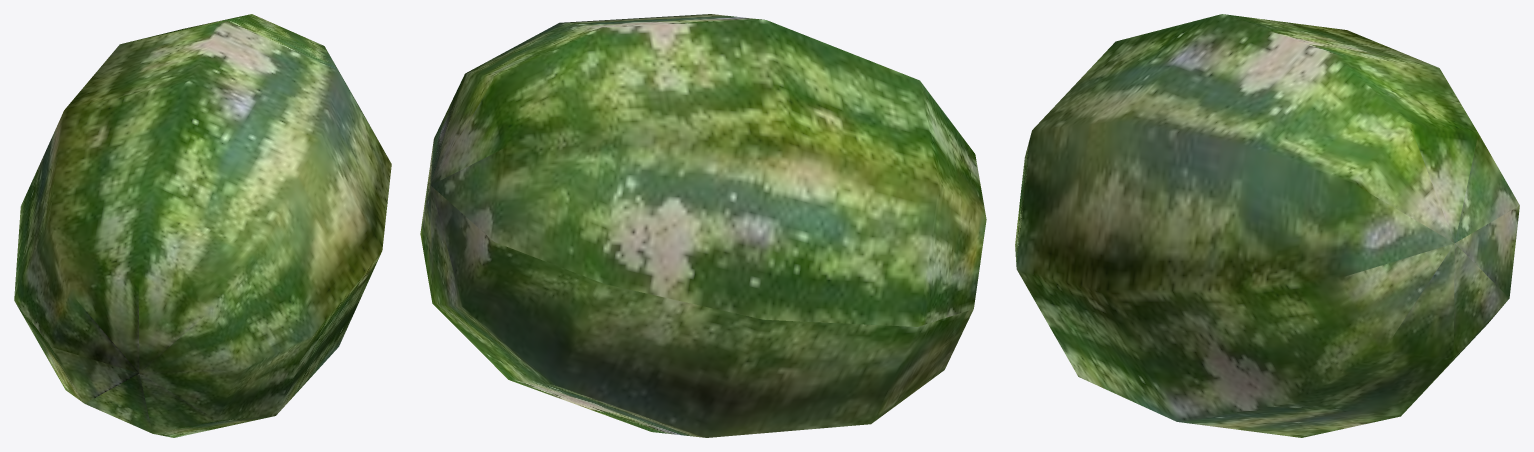
The picture shows the model from 3 angles, left to right: view 1: azimuth 30°, elevation 25°; view 2: azimuth 150°, elevation 25°; view 3: azimuth 270°, elevation 25°; orthographic projection. The views are drawn at different scales.
Visible parts, largest first — view 1: Watermelon004_Foods_0; view 2: Watermelon004_Foods_0; view 3: Watermelon004_Foods_0.
Boxes of the visible parts, box(x1,y1,x2,y2) form: Watermelon004_Foods_0: box(14, 14, 391, 437); Watermelon004_Foods_0: box(420, 14, 986, 437); Watermelon004_Foods_0: box(1015, 14, 1519, 437).
Size of the model in its own units: 0.4363 by 0.3786 by 0.4302.
Materials: 1 (1 with a texture image).
